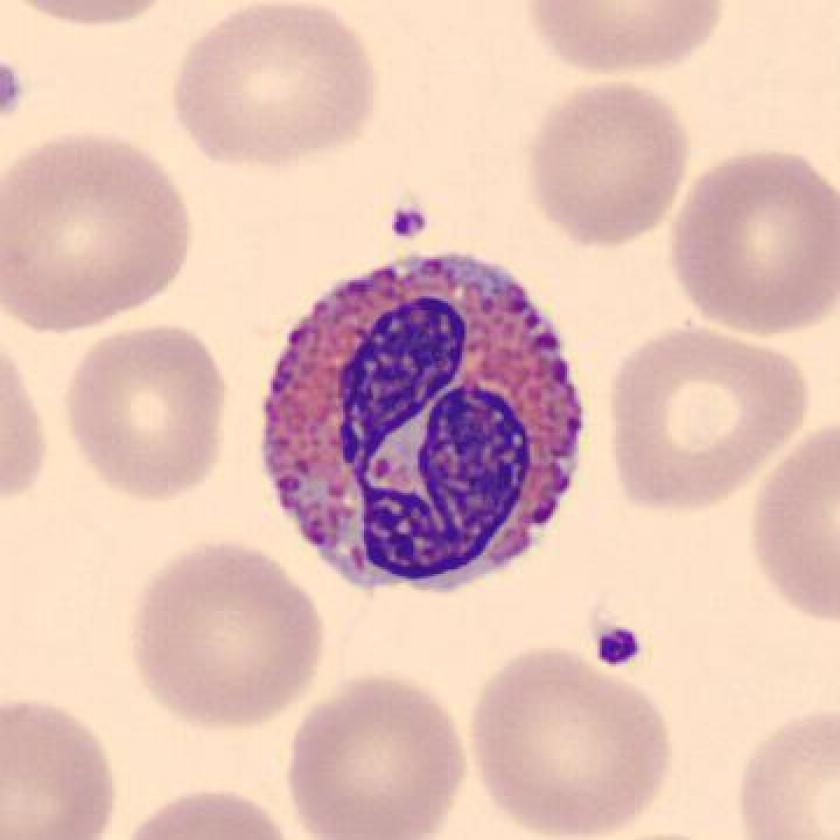eosinophil: (244, 237, 598, 610)
